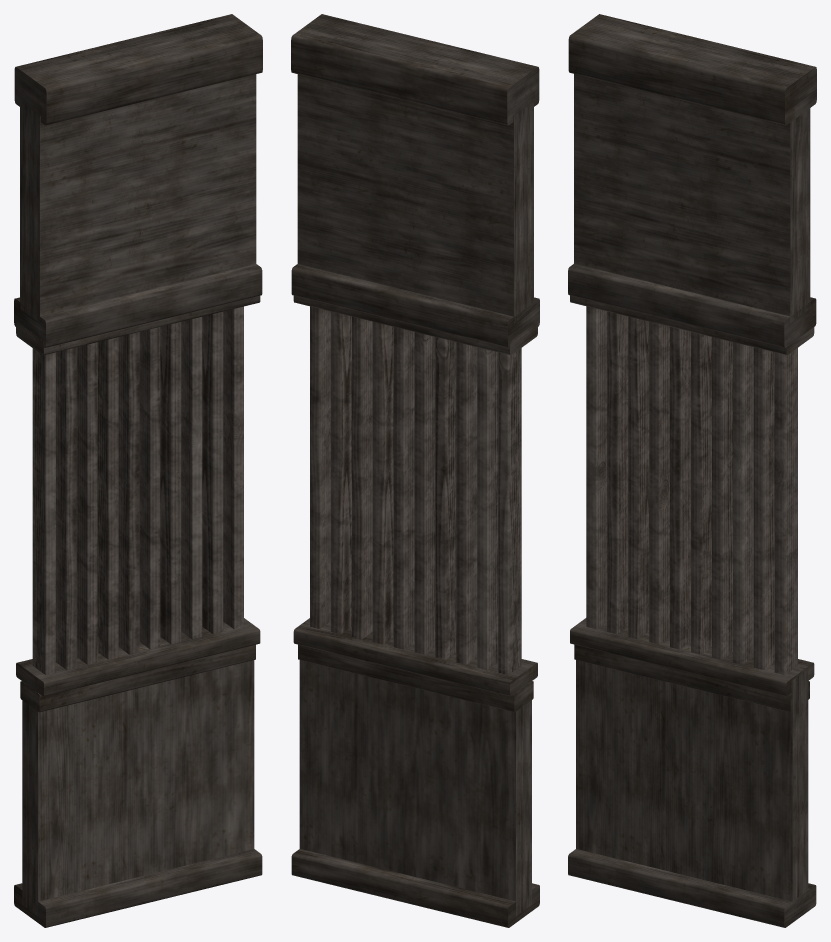
File: ShrineModule_Wall-02.fbx
The picture shows the model from 3 angles, left to right: view 1: azimuth 30°, elevation 25°; view 2: azimuth 150°, elevation 25°; view 3: azimuth 330°, elevation 25°; orthographic projection.
Visible parts, largest first — view 1: ShrineModule_Wall-02; view 2: ShrineModule_Wall-02; view 3: ShrineModule_Wall-02.
Boxes of the visible parts, bbox=[...] form: ShrineModule_Wall-02: bbox=[14, 14, 262, 927]; ShrineModule_Wall-02: bbox=[291, 14, 539, 927]; ShrineModule_Wall-02: bbox=[568, 14, 816, 927].
Bounding box in the file's own units: 1.5 × 5.56 × 0.383.
